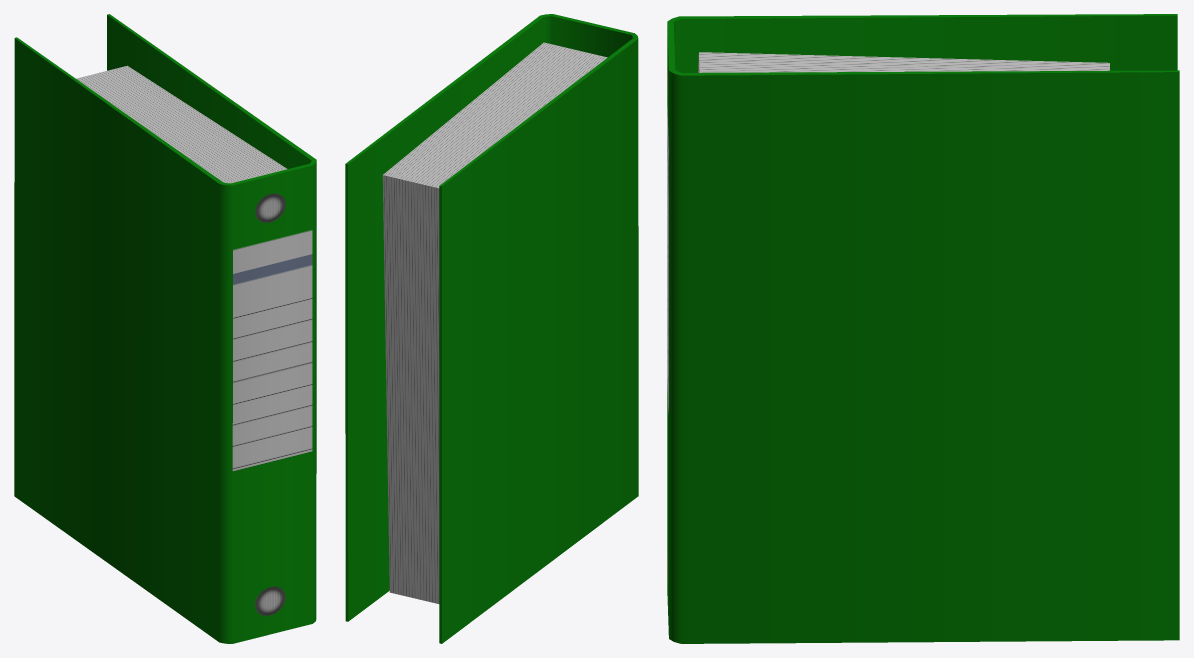
The model's file is Office file binder_004.FBX.
3 renders of one model, left to right at view 1: azimuth 30°, elevation 25°; view 2: azimuth 150°, elevation 25°; view 3: azimuth 270°, elevation 25°, orthographic. The views are drawn at different scales.
Visible parts, largest first — view 1: Office file binder_004; view 2: Office file binder_004; view 3: Office file binder_004.
Part boxes in pixels (<box>): Office file binder_004: <box>14,14,316,643</box>; Office file binder_004: <box>345,14,638,643</box>; Office file binder_004: <box>667,14,1179,643</box>.
Size of the model in its own units: 0.0746 by 0.3203 by 0.2617.
